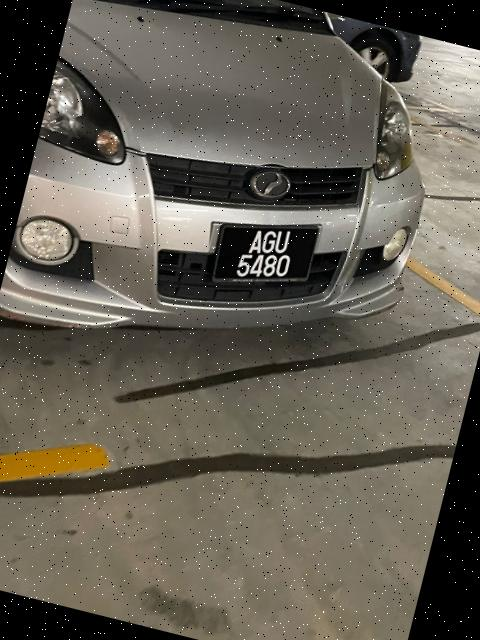License_Plate: (219, 203, 319, 294)
car: (1, 1, 469, 413)
